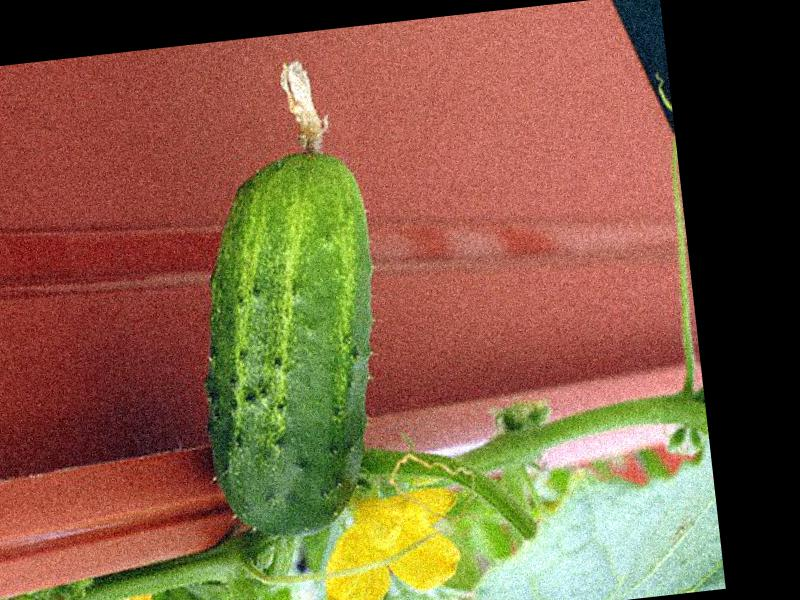Cucumber: (170, 51, 403, 546)
